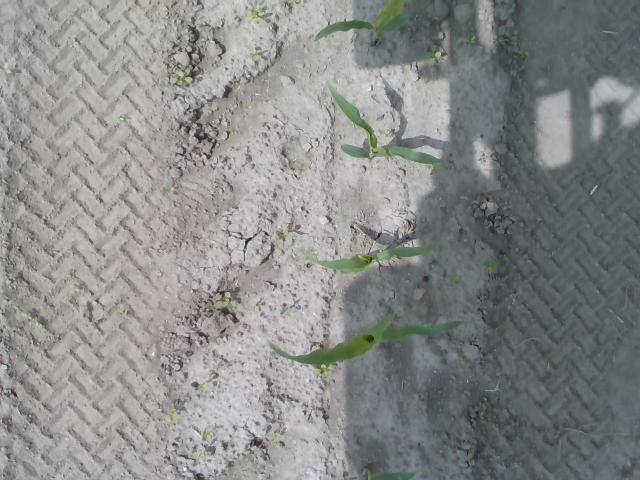Maize: (327, 80, 448, 166), (266, 314, 464, 366), (298, 241, 444, 276), (312, 0, 410, 49), (362, 462, 418, 480)
Weeds: (170, 70, 192, 88), (424, 46, 443, 63), (314, 363, 335, 378), (215, 291, 232, 309), (246, 7, 264, 23), (274, 229, 294, 242), (481, 258, 498, 272), (0, 63, 13, 78), (448, 276, 462, 288), (516, 48, 530, 60), (504, 29, 519, 40), (464, 34, 475, 47), (168, 406, 178, 420), (426, 13, 439, 23), (250, 48, 260, 60), (286, 0, 302, 5), (476, 410, 484, 419)
